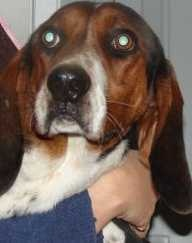dog: (5, 0, 180, 205)
